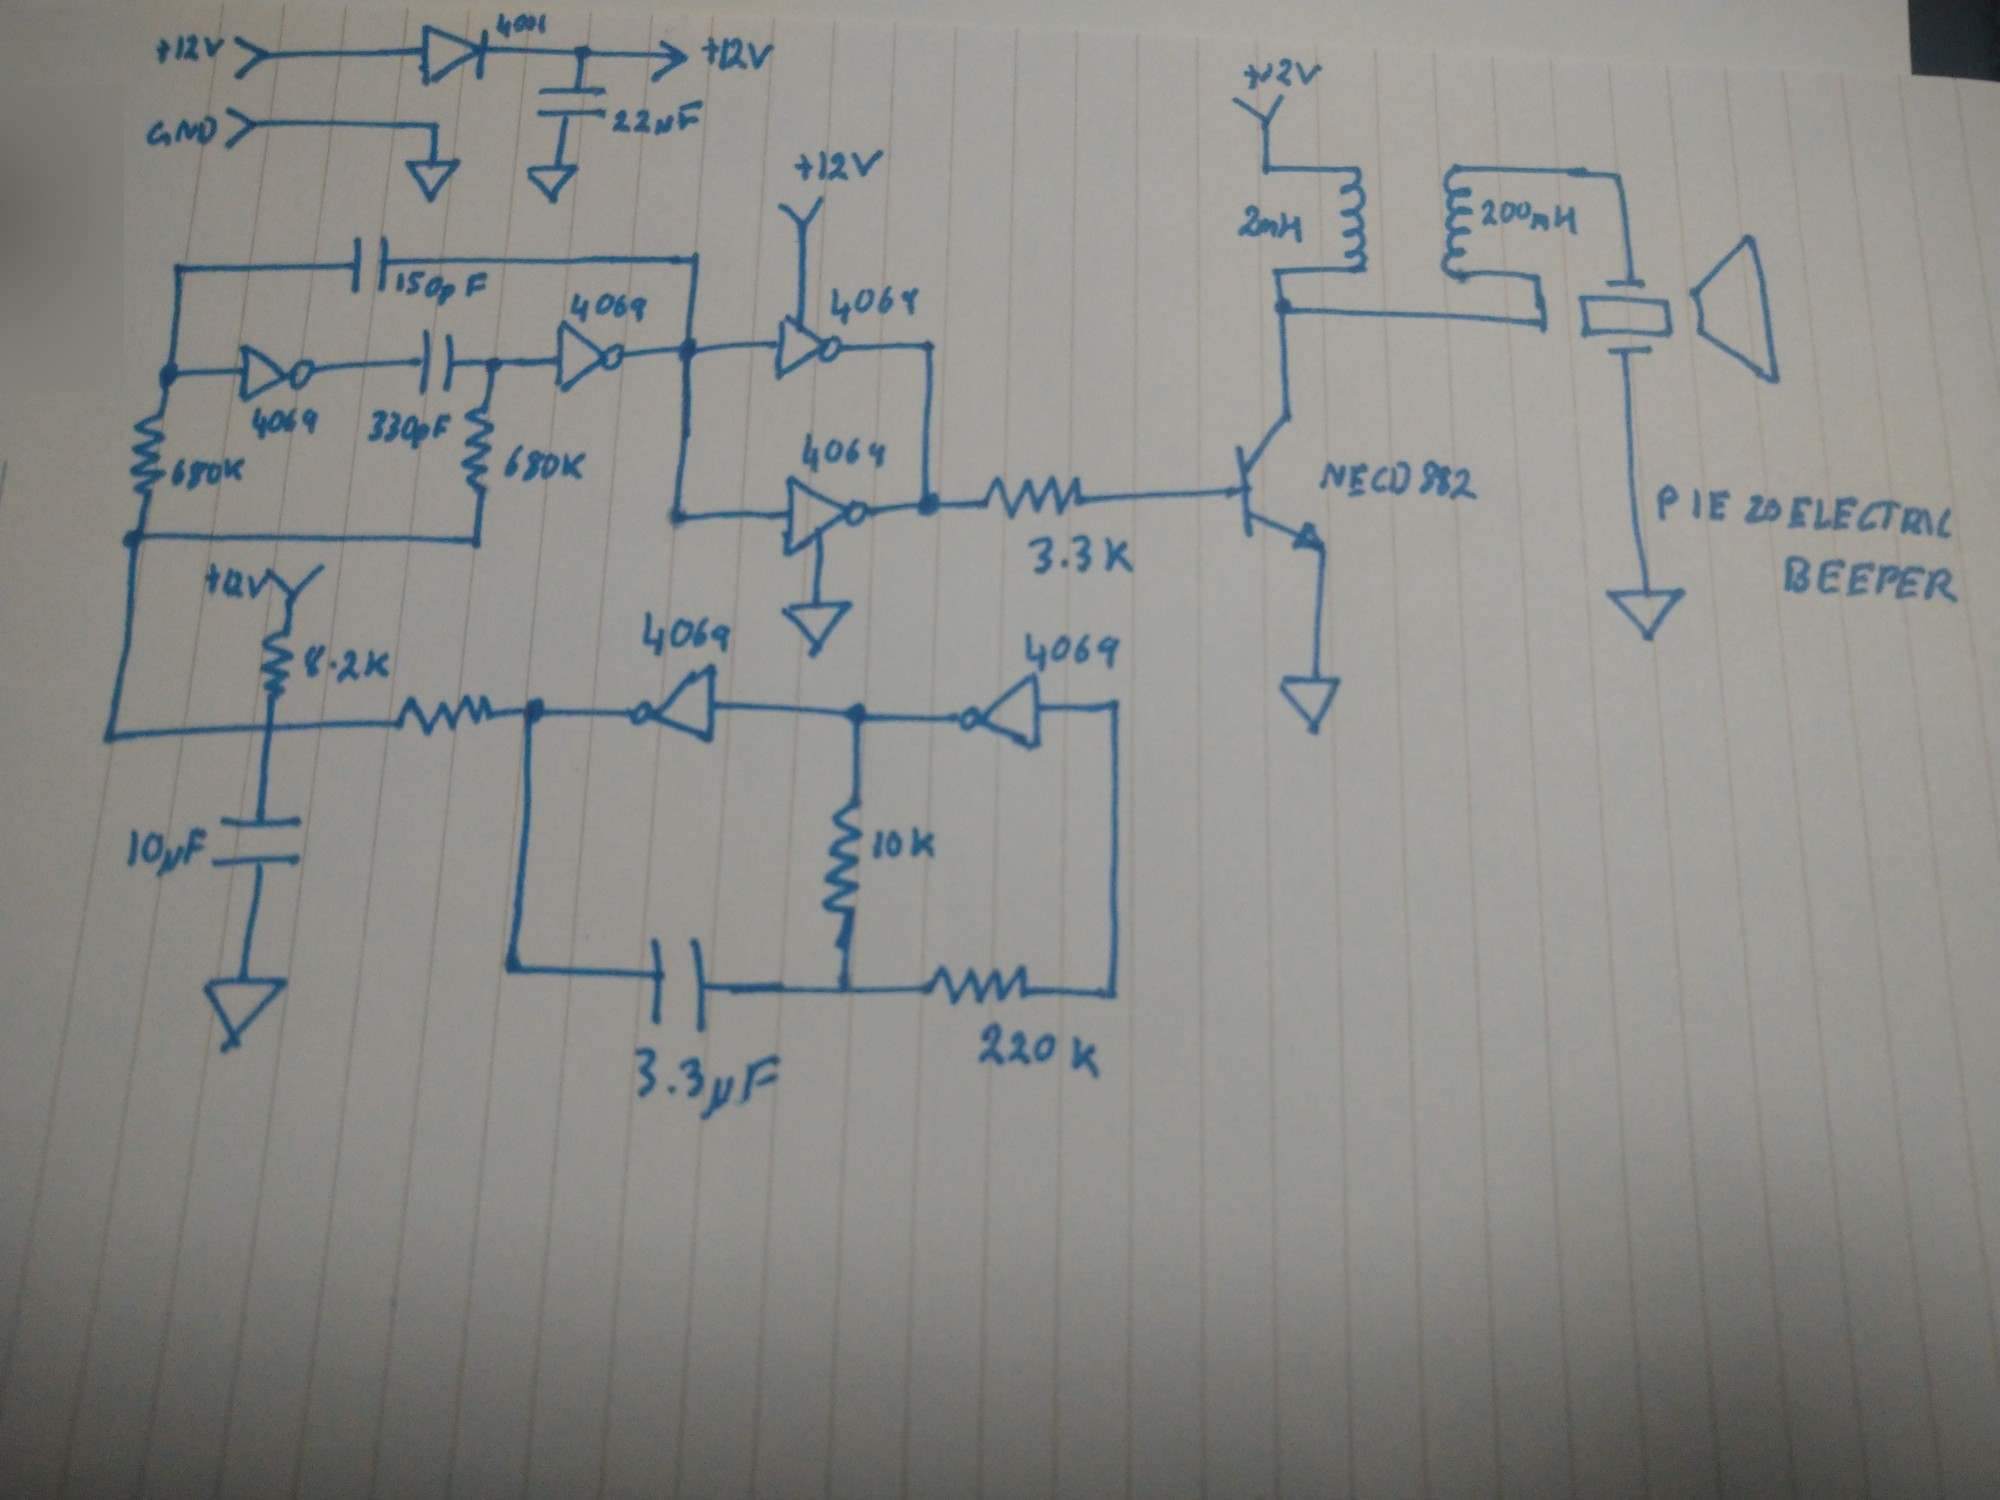capacitor.unpolarized: (643, 930, 713, 1032), (209, 805, 309, 876), (413, 325, 460, 400), (343, 230, 395, 296), (532, 80, 609, 121)
crossover: (250, 712, 290, 747)
diode: (411, 20, 494, 90)
gnd: (194, 971, 298, 1057), (1603, 583, 1690, 649), (780, 589, 858, 659), (1276, 671, 1345, 737), (523, 158, 583, 211), (402, 154, 463, 203)
inductor: (1326, 158, 1380, 280), (1428, 154, 1474, 291)
junction: (902, 479, 953, 526), (509, 689, 556, 737), (655, 488, 699, 540), (487, 949, 542, 989), (663, 328, 713, 372), (113, 518, 156, 566), (831, 696, 879, 737), (907, 328, 956, 367), (825, 969, 866, 1012), (91, 717, 131, 756), (1090, 687, 1131, 725), (1091, 974, 1135, 1008), (150, 355, 186, 395), (676, 239, 713, 276), (1263, 295, 1306, 325), (458, 522, 493, 558), (1521, 262, 1557, 296), (1602, 158, 1638, 191), (1524, 310, 1564, 340), (164, 254, 195, 285), (1250, 154, 1287, 181), (479, 351, 509, 383), (1265, 255, 1294, 285), (569, 36, 598, 65), (422, 117, 446, 139)
not: (769, 471, 876, 559), (624, 659, 723, 752), (953, 666, 1050, 755), (550, 318, 628, 395), (772, 312, 847, 388), (235, 339, 320, 403)
resistor: (817, 793, 869, 922), (913, 960, 1039, 1012), (972, 468, 1090, 522), (389, 689, 499, 741), (123, 405, 167, 506), (458, 397, 498, 506), (250, 621, 298, 707)
speaker: (1573, 232, 1789, 392)
terminal: (266, 558, 328, 607), (1228, 87, 1298, 129), (772, 191, 835, 235), (647, 32, 693, 88), (228, 27, 269, 85), (220, 95, 257, 158)
text: (1650, 479, 1964, 544), (628, 1040, 786, 1123), (1775, 548, 1964, 610), (1313, 454, 1490, 507), (970, 1019, 1106, 1082), (1022, 529, 1142, 577), (635, 607, 739, 660), (1020, 624, 1126, 673), (1476, 194, 1586, 238), (824, 282, 926, 328), (361, 405, 457, 452), (795, 429, 894, 474), (121, 826, 206, 878), (501, 443, 591, 488), (301, 641, 394, 685), (391, 266, 490, 307), (698, 32, 780, 80), (611, 98, 706, 139), (791, 147, 888, 186), (1231, 202, 1313, 247), (869, 818, 943, 867), (167, 455, 250, 495), (142, 112, 220, 151), (569, 288, 654, 325), (1238, 55, 1331, 88), (246, 402, 323, 441), (200, 559, 268, 603), (150, 30, 228, 66), (491, 6, 553, 41)
transistor: (1213, 403, 1335, 561)
